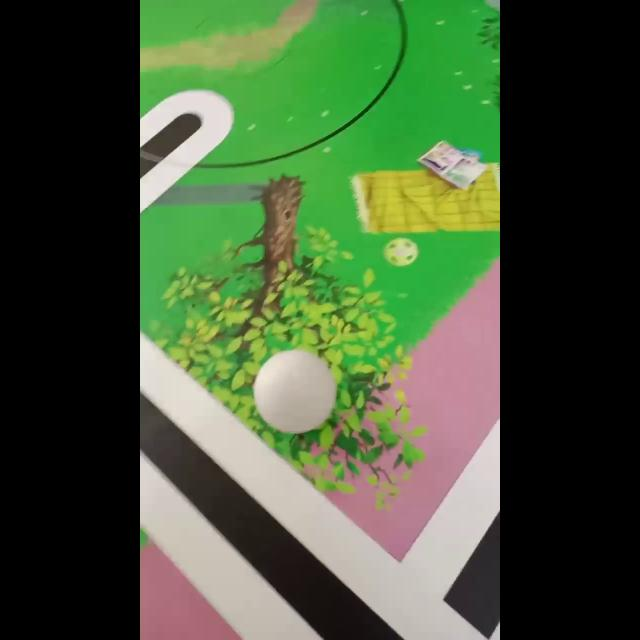white ball: (252, 348, 336, 434)
